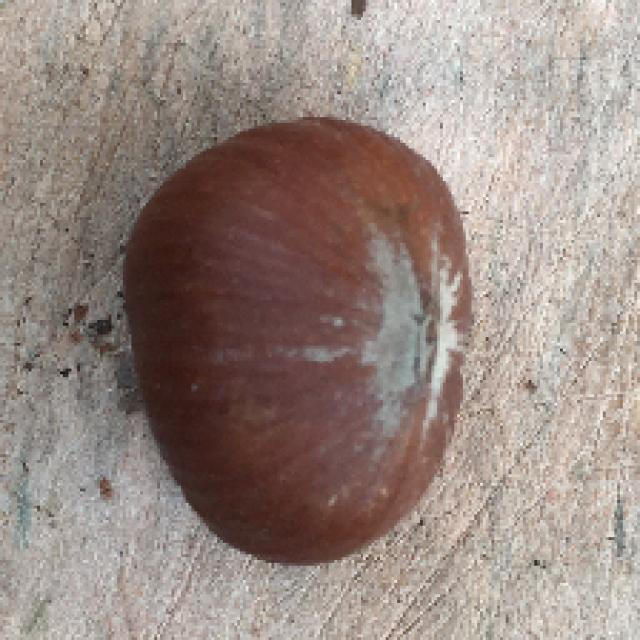damagedHazelnut: (121, 106, 475, 577)
